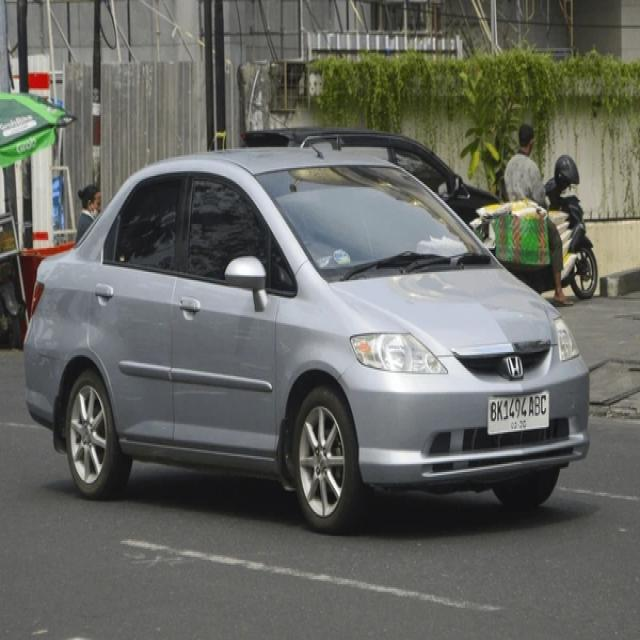honda: (501, 349, 526, 388)
